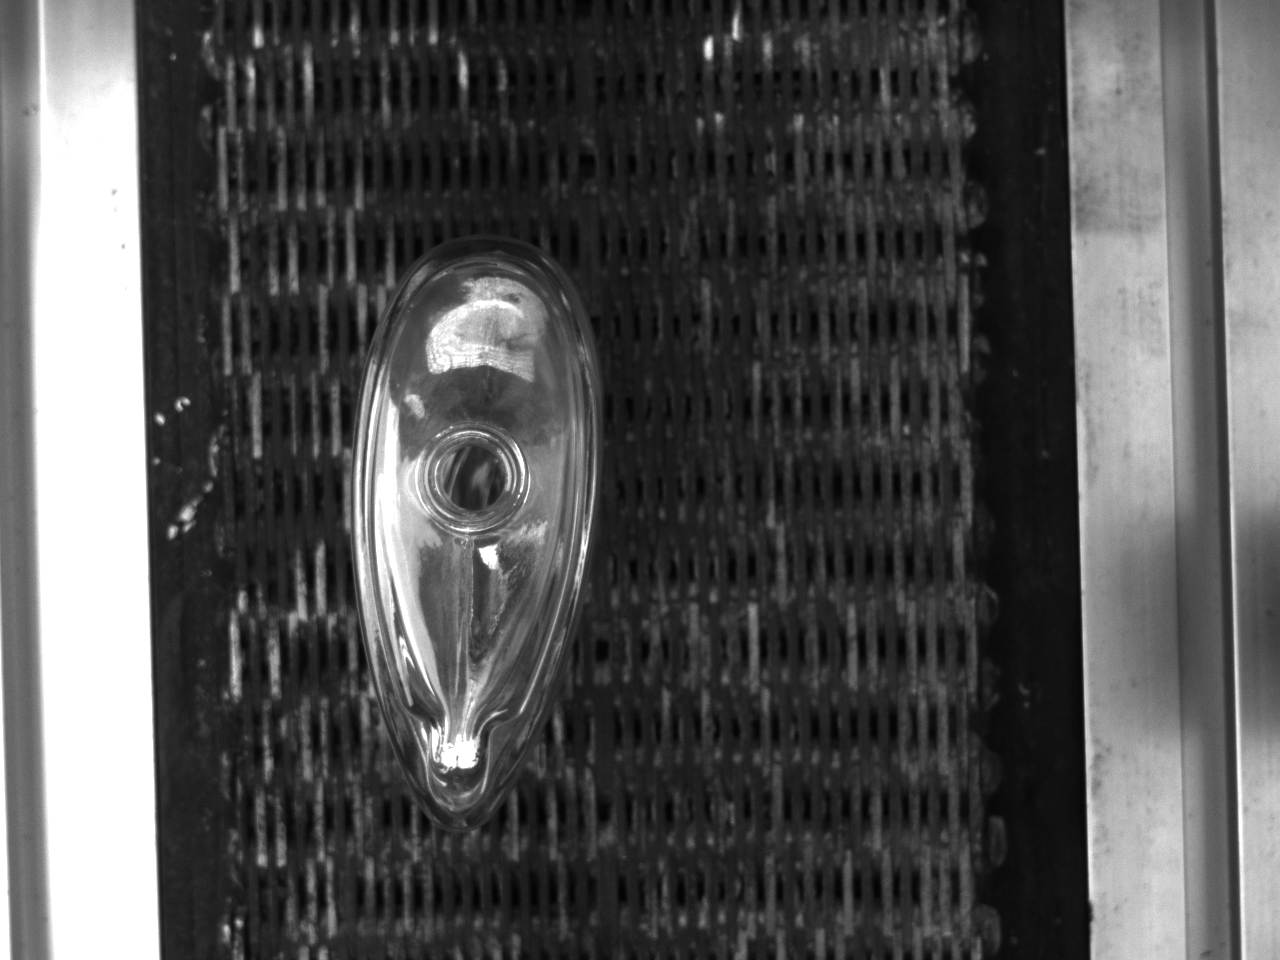bottleneck: (421, 425, 530, 532)
